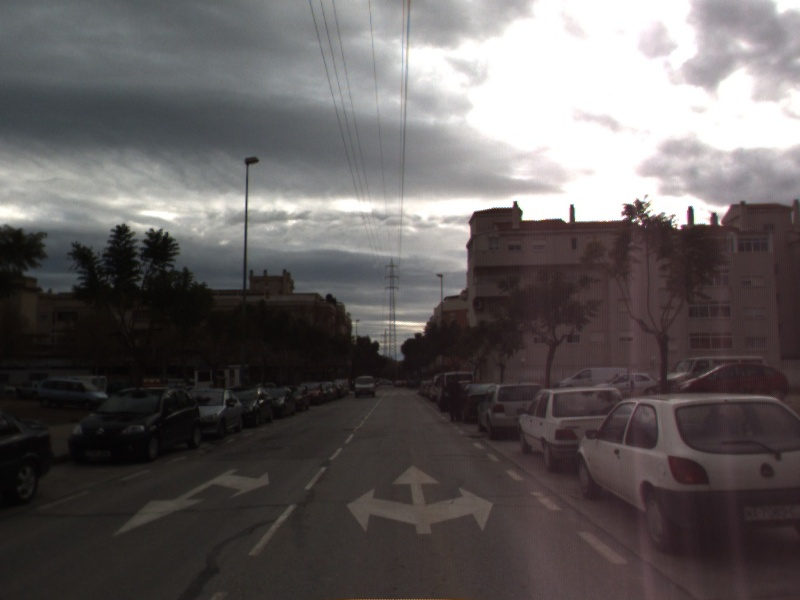STRAIGHT_LEFT_RIGHT: (344, 463, 495, 536)
